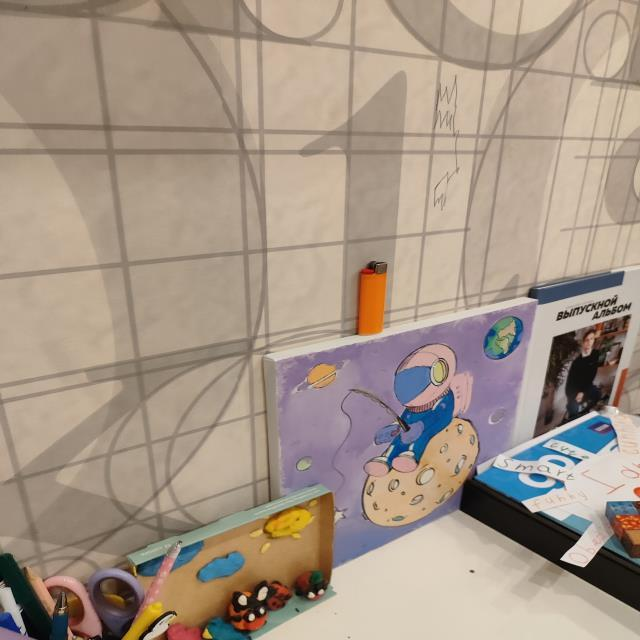lighter: (356, 261, 386, 335)
